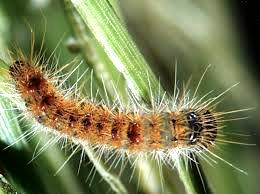Caterpillar: (4, 54, 224, 153)
